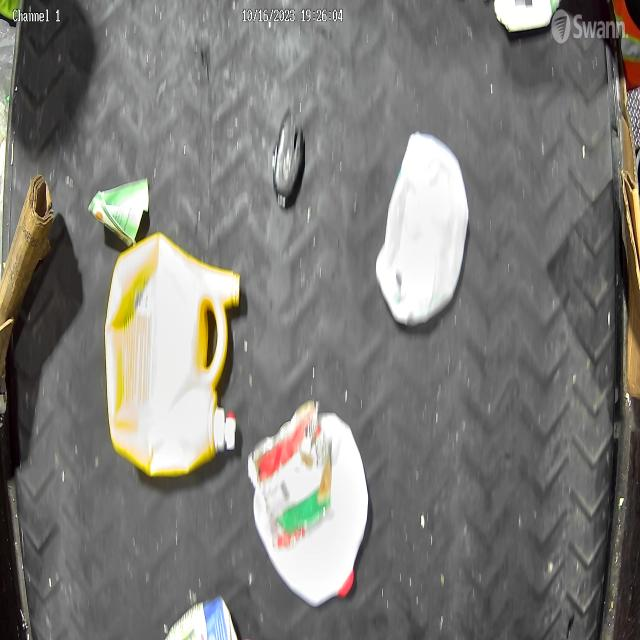milk_jug: (252, 410, 371, 608), (373, 129, 472, 333)
non_white_jug: (104, 229, 246, 483)
